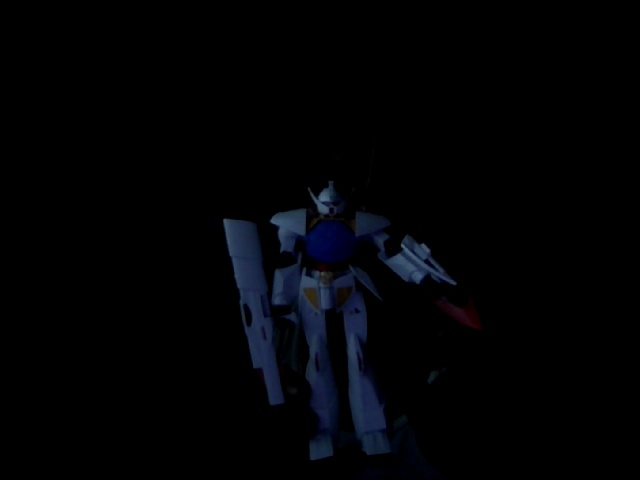Turn-A: (220, 180, 461, 467)
